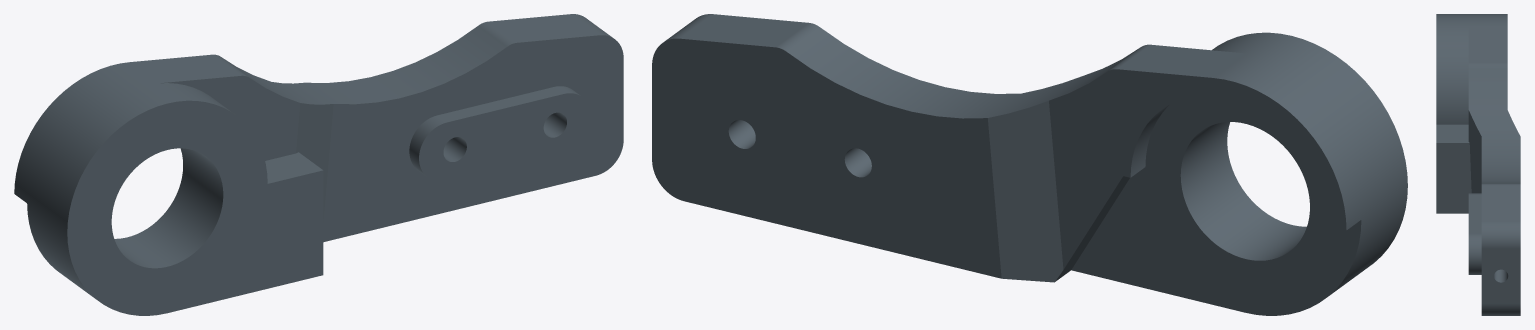
File: dropout_right.glb
3 renders of one model, left to right at view 1: azimuth 30°, elevation 25°; view 2: azimuth 150°, elevation 25°; view 3: azimuth 270°, elevation 25°, orthographic. The views are drawn at different scales.
Parts seen in each view (by area): view 1: dropout_right; view 2: dropout_right; view 3: dropout_right.
Boxes of the visible parts, <box> form: dropout_right: <box>14,14,623,315</box>; dropout_right: <box>652,14,1407,315</box>; dropout_right: <box>1436,14,1520,315</box>.
Bounding box in the file's own units: 106 × 36 × 19.5.
